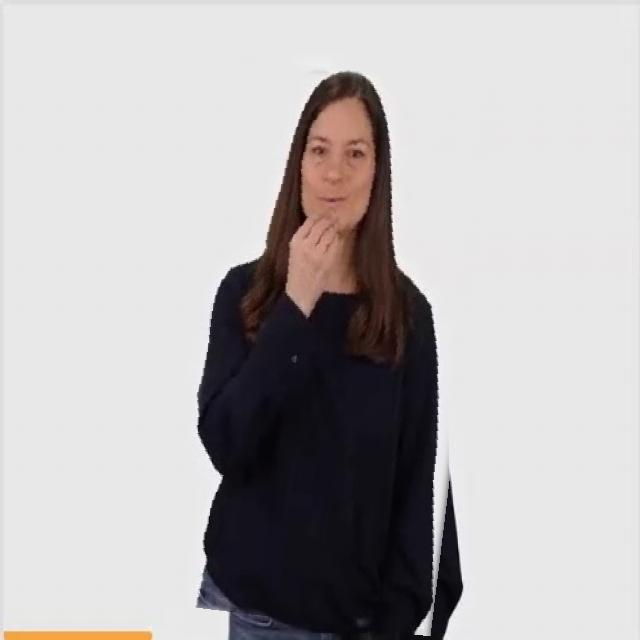Food: (186, 64, 481, 629)
